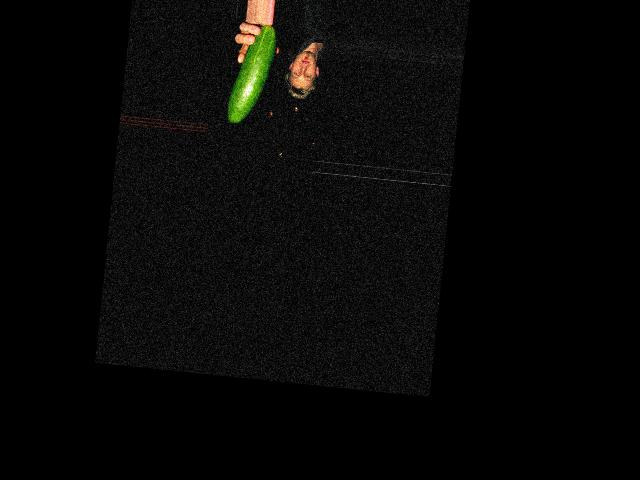cucumber: (225, 23, 277, 126)
